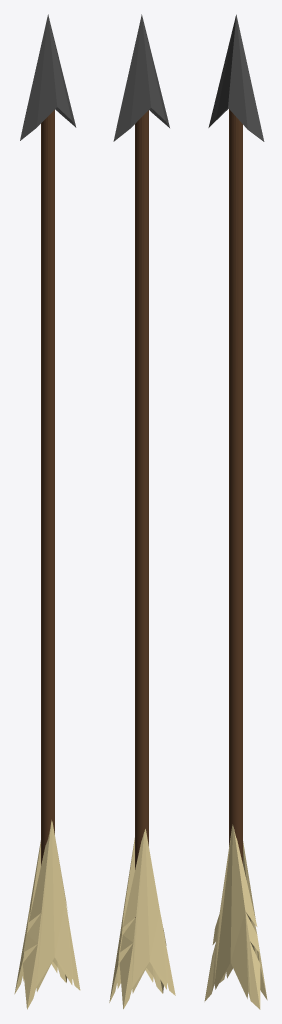
The model's file is Arrow_01.fbx.
3 views of the same model, side by side, from view 1: azimuth 30°, elevation 25°; view 2: azimuth 210°, elevation 25°; view 3: azimuth 330°, elevation 25° (orthographic).
Visible parts, largest first — view 1: polySurface28; view 2: polySurface28; view 3: polySurface28.
Boxes of the visible parts, <box> form: polySurface28: <box>14,14,80,1009</box>; polySurface28: <box>109,14,175,1009</box>; polySurface28: <box>204,14,267,1009</box>.
Size of the model in its own units: 2.35 by 39.48 by 1.28.
